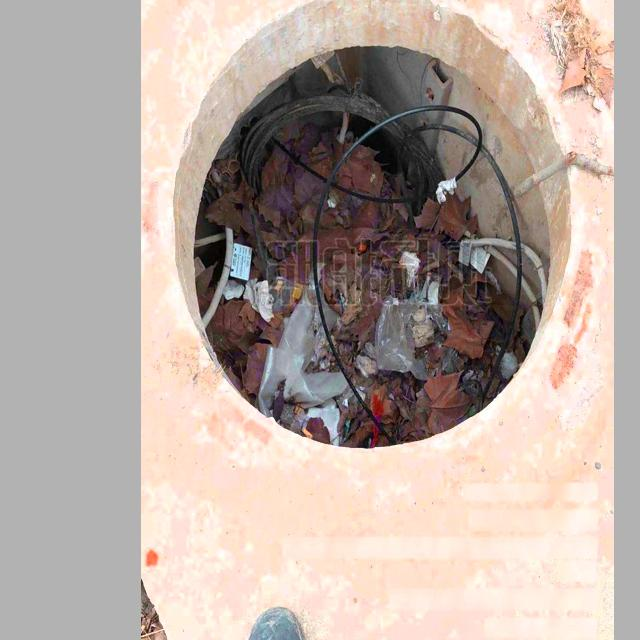lose: (172, 0, 575, 449)
